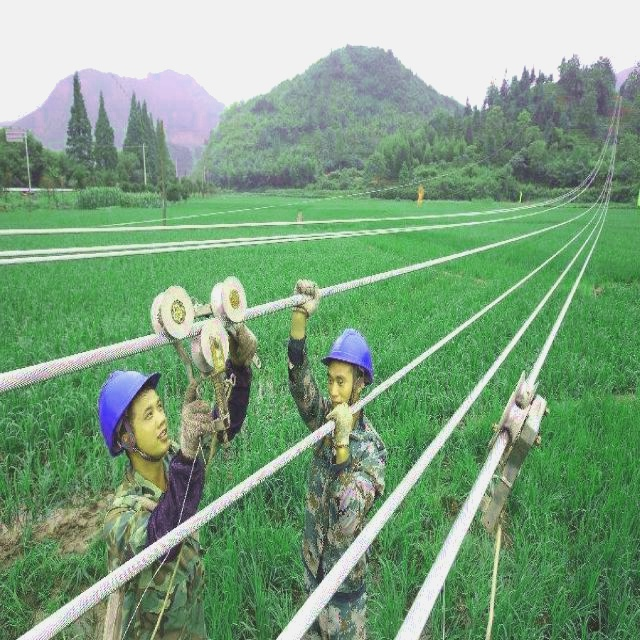Con_Casco: (97, 365, 170, 466), (324, 327, 371, 416)
